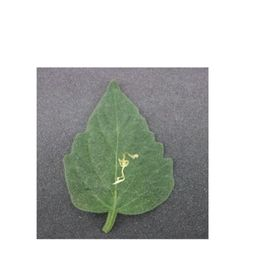liriomyza: (111, 152, 139, 184)
